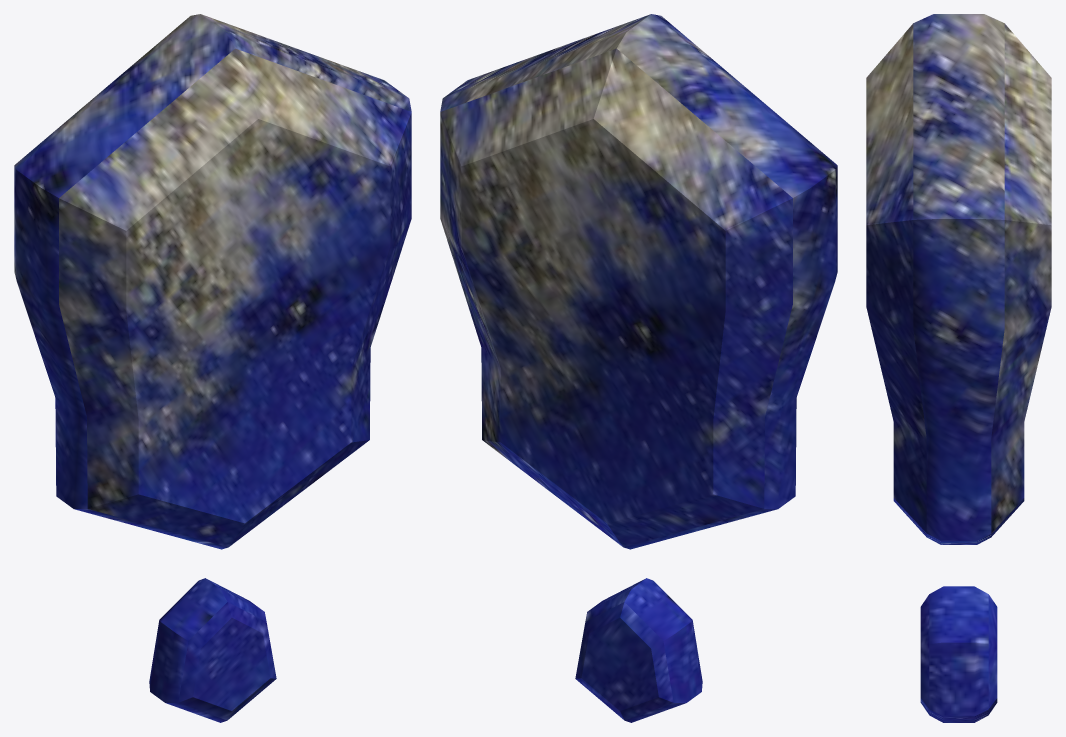
The model's file is Lapis_Collectible.fbx.
The picture shows the model from 3 angles, left to right: view 1: azimuth 30°, elevation 25°; view 2: azimuth 150°, elevation 25°; view 3: azimuth 270°, elevation 25°; orthographic projection. The views are drawn at different scales.
Visible parts, largest first — view 1: Collectible_Lapis; view 2: Collectible_Lapis; view 3: Collectible_Lapis.
Boxes of the visible parts, x1,y1,x2,y2 form: Collectible_Lapis: [14, 14, 411, 722]; Collectible_Lapis: [440, 14, 837, 722]; Collectible_Lapis: [866, 14, 1051, 722].
Size of the model in its own units: 43.73 by 78.89 by 18.69.
1 material, 1 textured.
